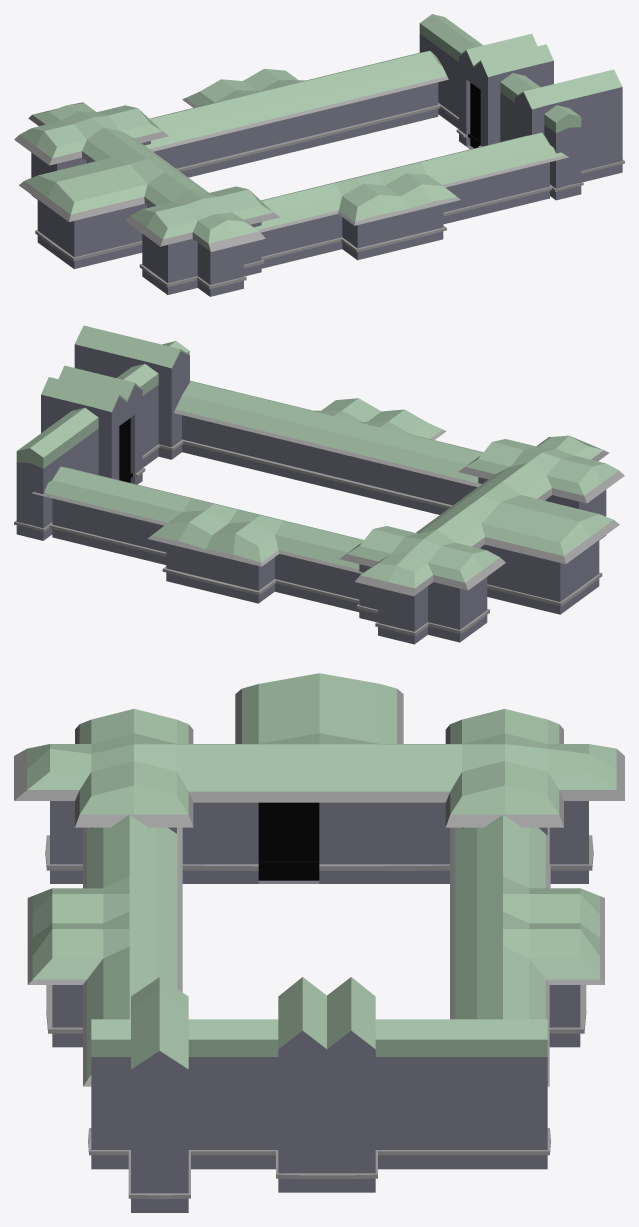
Rendered from NewWalls.fbx.
The picture shows the model from 3 angles, top to bottom: view 1: azimuth 30°, elevation 25°; view 2: azimuth 150°, elevation 25°; view 3: azimuth 270°, elevation 25°; orthographic projection. The views are drawn at different scales.
Parts seen in each view (by area): view 1: Front Wall, Side Wall.001, Side Wall.002, Back Wall; view 2: Front Wall, Side Wall.002, Side Wall.001, Back Wall; view 3: Front Wall, Back Wall, Side Wall.002, Side Wall.001.
Part boxes in pixels (x1=…): Front Wall: x1=14, y1=102, x2=279, y2=296; Side Wall.001: x1=254, y1=132, x2=568, y2=268; Side Wall.002: x1=145, y1=51, x2=448, y2=177; Back Wall: x1=419, y1=14, x2=624, y2=200; Front Wall: x1=339, y1=435, x2=624, y2=644; Side Wall.002: x1=32, y1=466, x2=363, y2=611; Side Wall.001: x1=173, y1=380, x2=483, y2=514; Back Wall: x1=14, y1=325, x2=189, y2=540; Front Wall: x1=14, y1=673, x2=624, y2=888; Back Wall: x1=88, y1=977, x2=550, y2=1212; Side Wall.002: x1=450, y1=815, x2=604, y2=1086; Side Wall.001: x1=27, y1=814, x2=182, y2=1086.
Bounding box in the file's own units: 12754 × 2250 × 7688.
